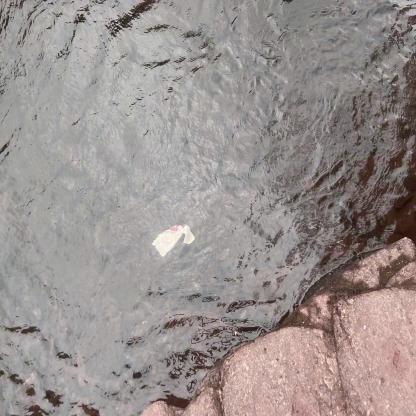Plastic: (150, 220, 198, 262)
